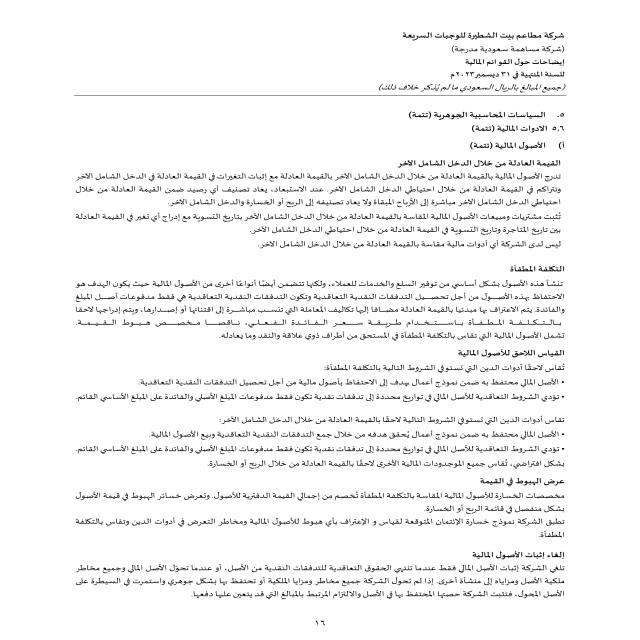notes: (447, 58, 568, 66)
text: (42, 104, 576, 606)
